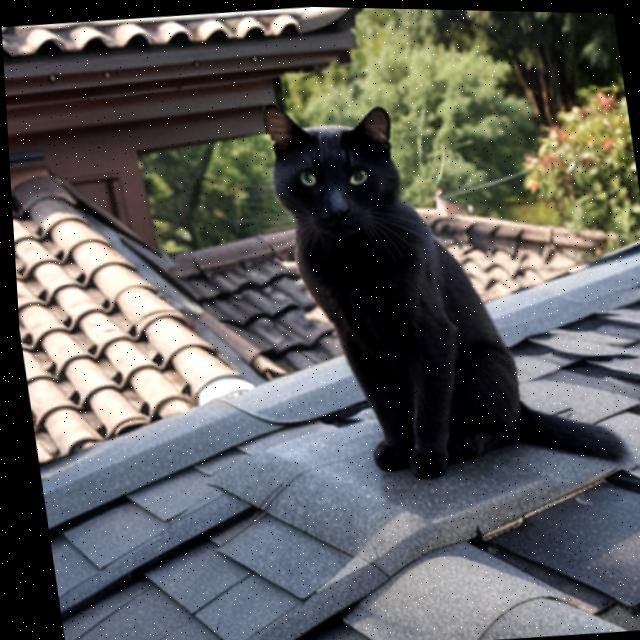cat: (232, 68, 640, 520)
